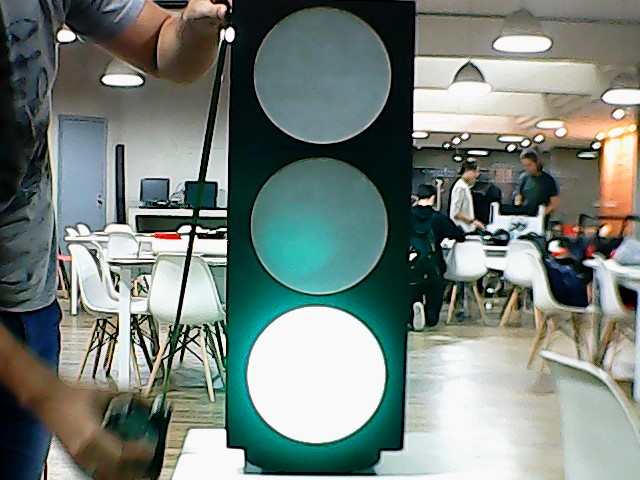verde: (224, 1, 414, 451)
